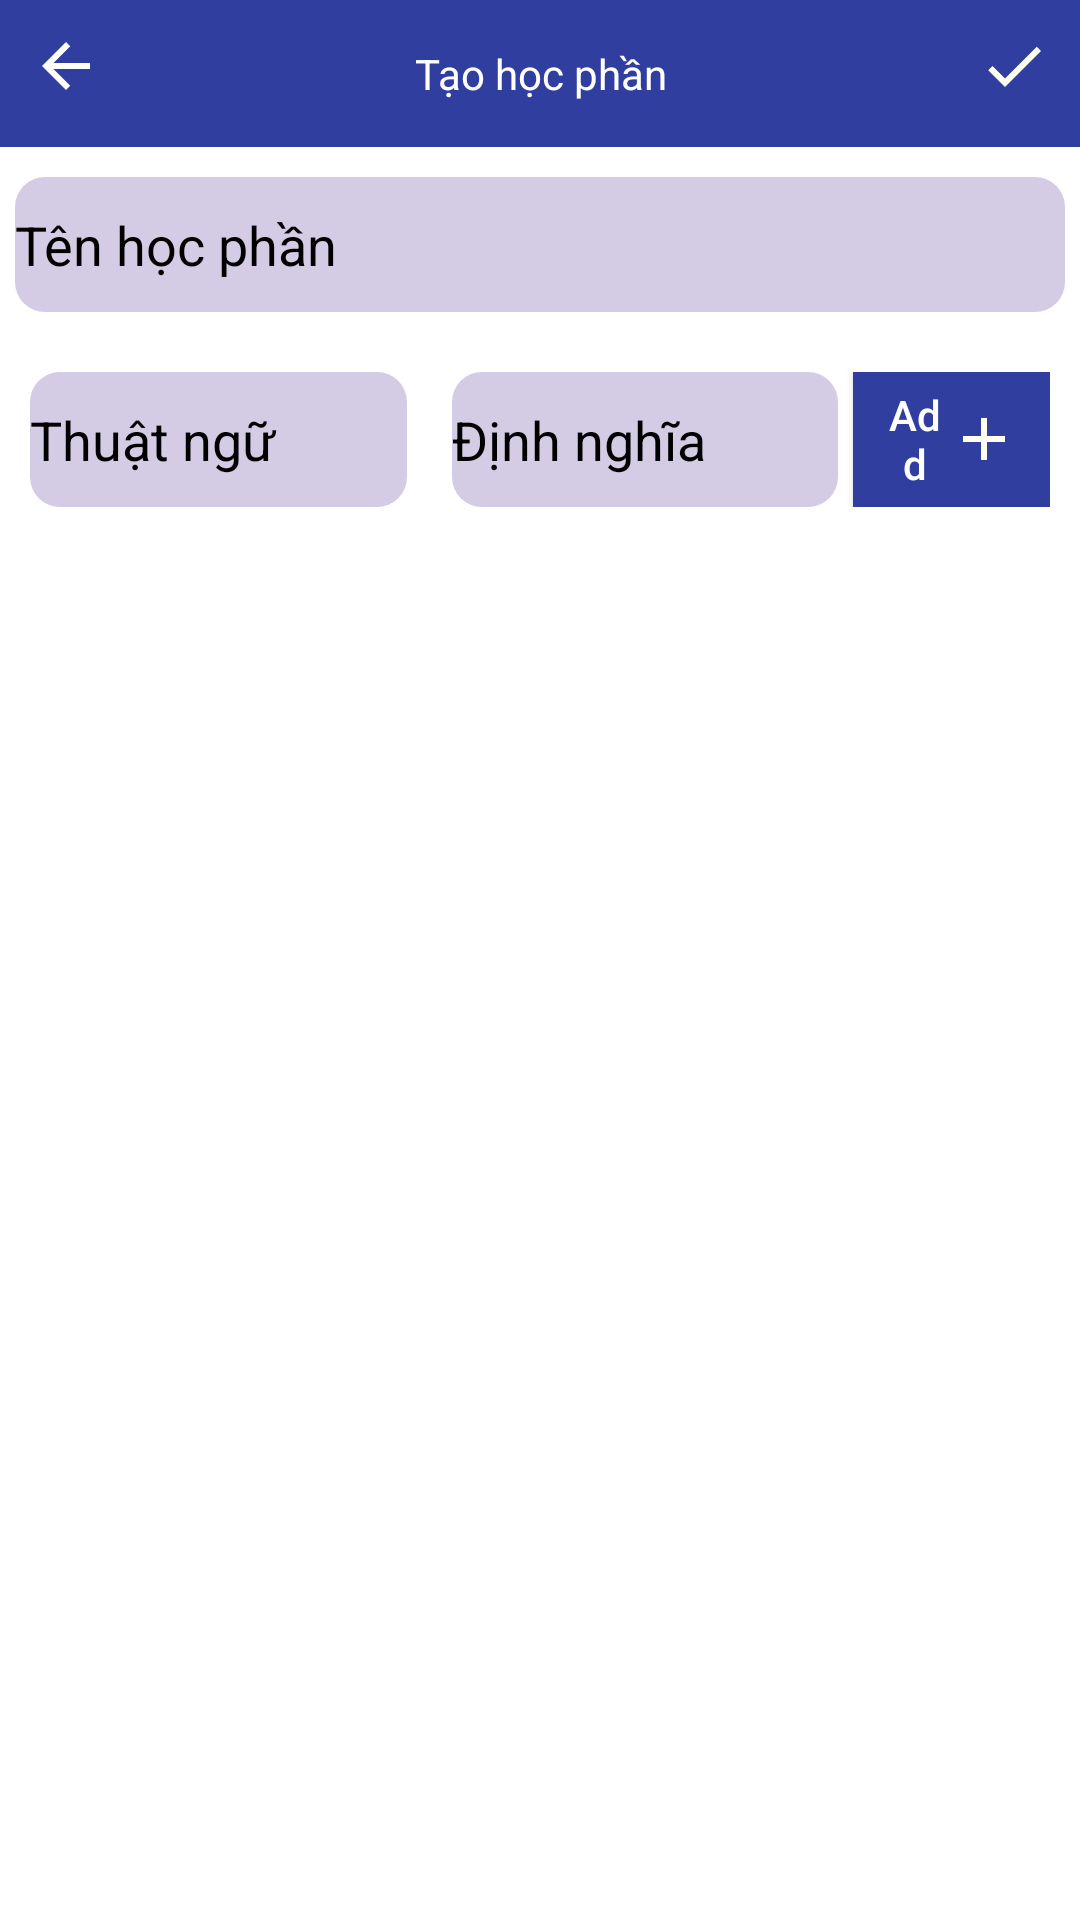

Screen size 1080w x 1920h. Icon name, then its center in pixels as (x=x, y=y):
back: (x=66, y=66)
check: (x=1014, y=67)
